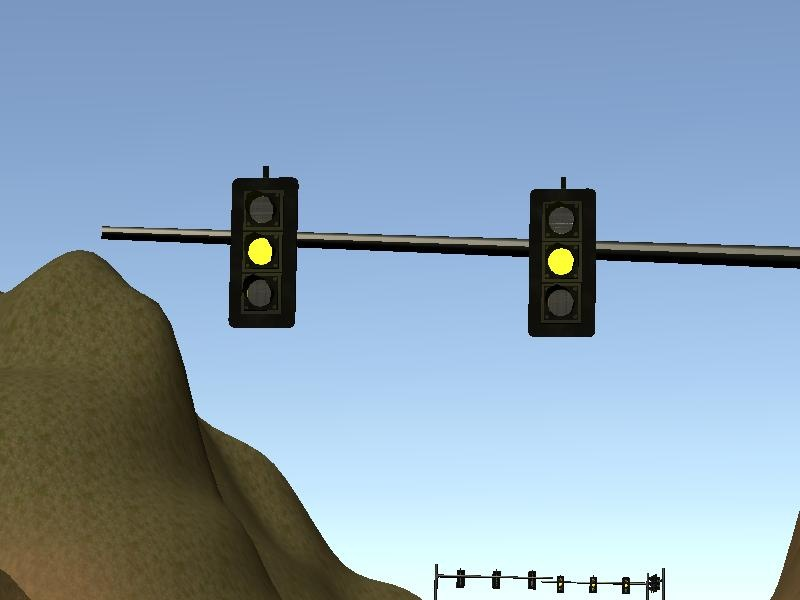YELLOW: (523, 182, 601, 340), (224, 171, 302, 329)
